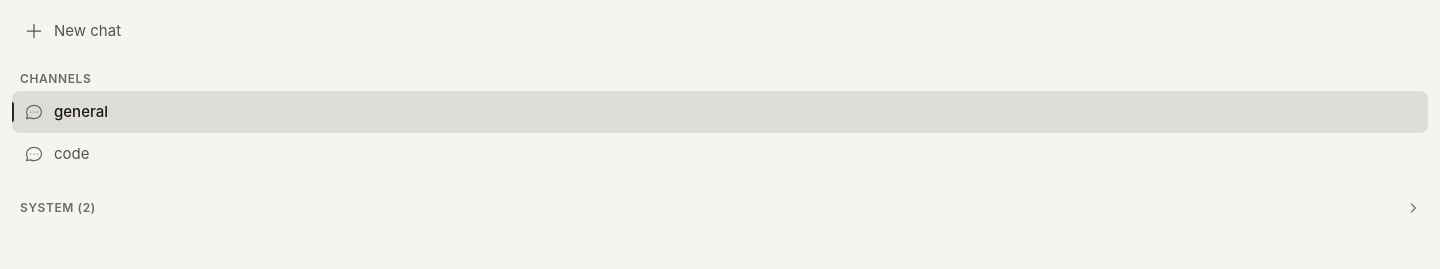
ChannelList › shows input when create button clicked
Click the button with aria-label "Create channel". click: coordinates (88, 30)
box: [12, 8, 1428, 54]
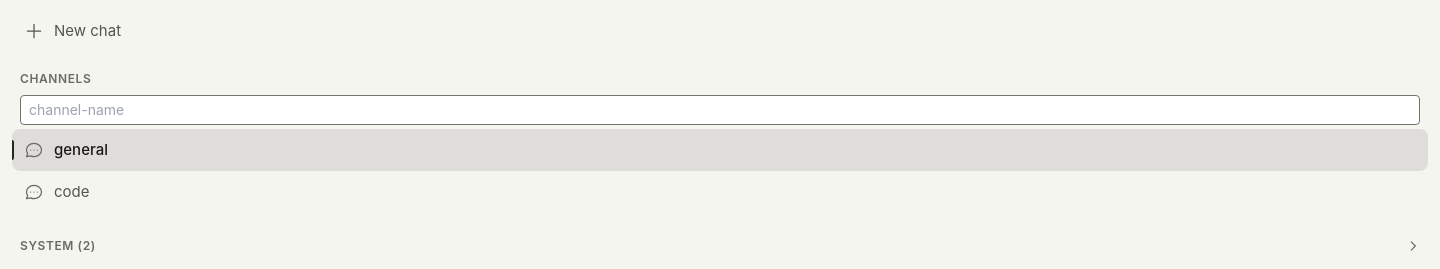
Expected: the field with placeholder "channel-name" is shown, [20, 94, 1420, 124]
